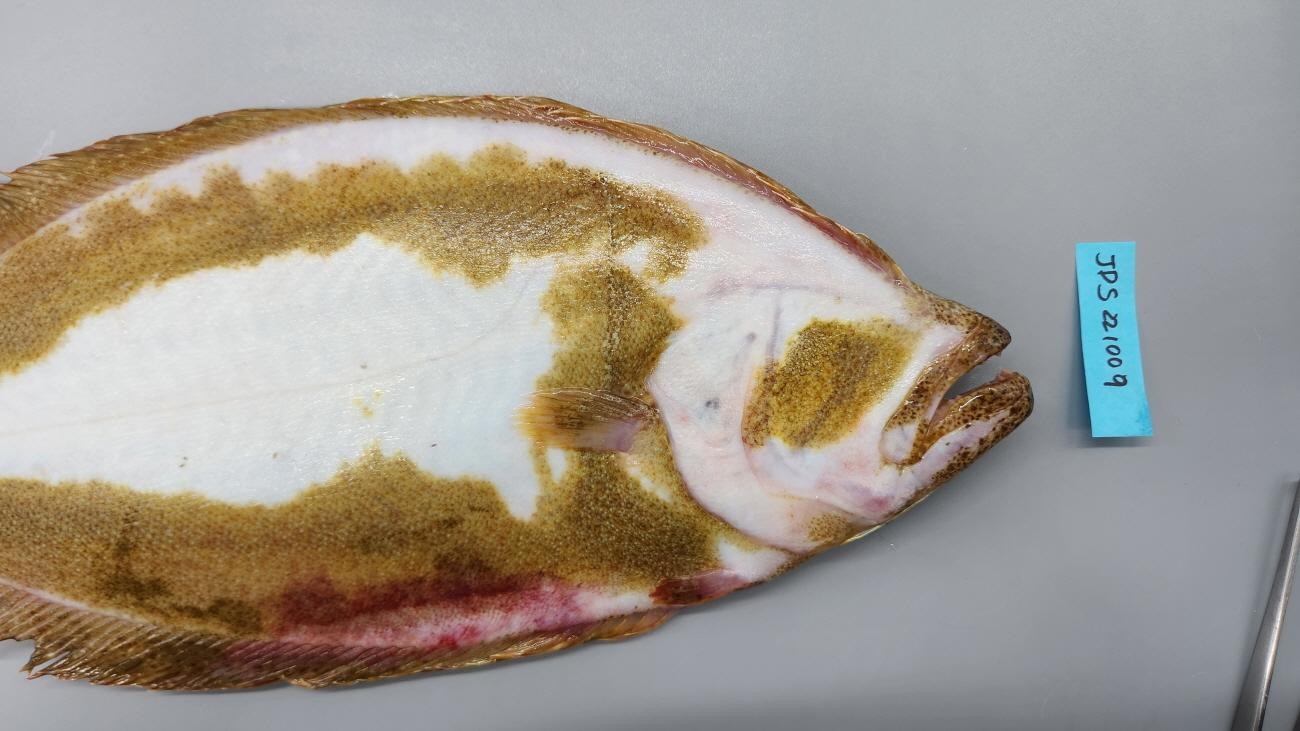POOUN: (0, 94, 1037, 696)
